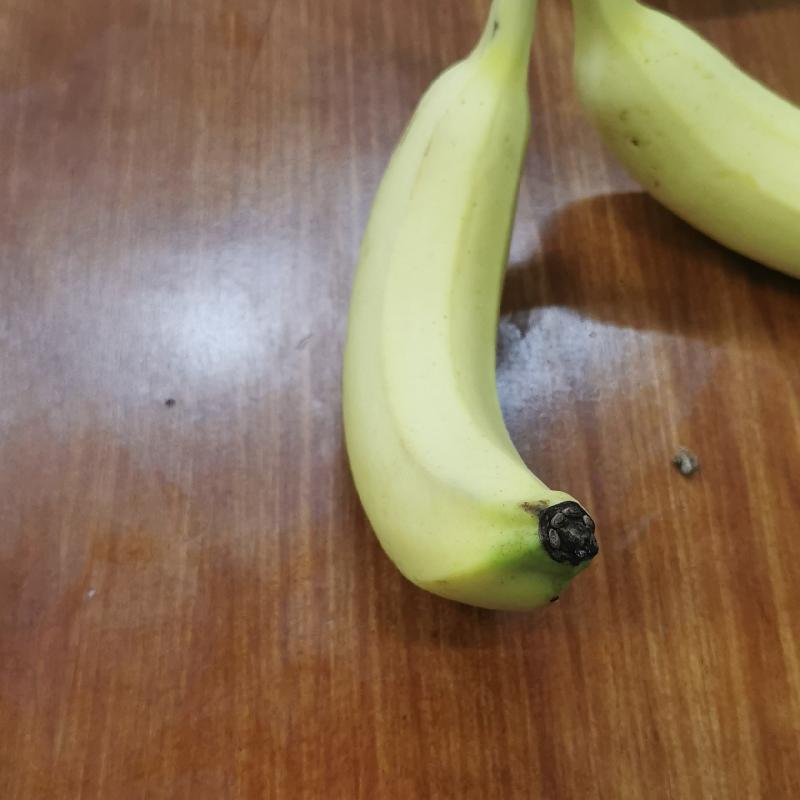bananas: (337, 0, 594, 614)
